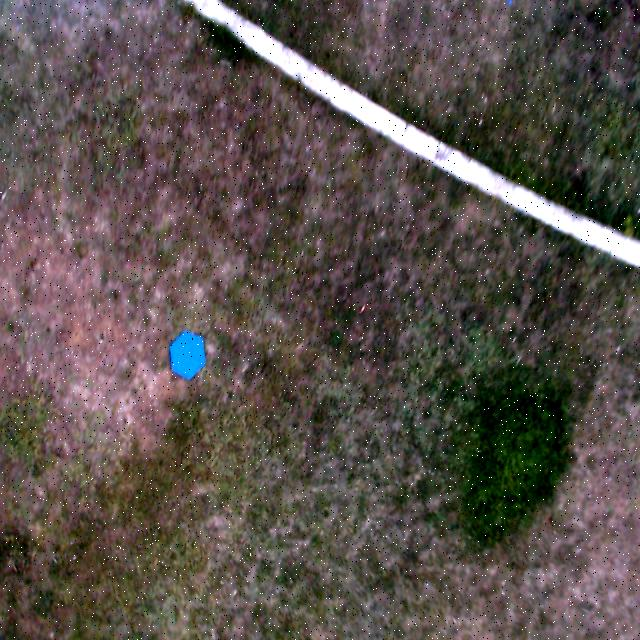blue_hexagon: (171, 330, 206, 380)
